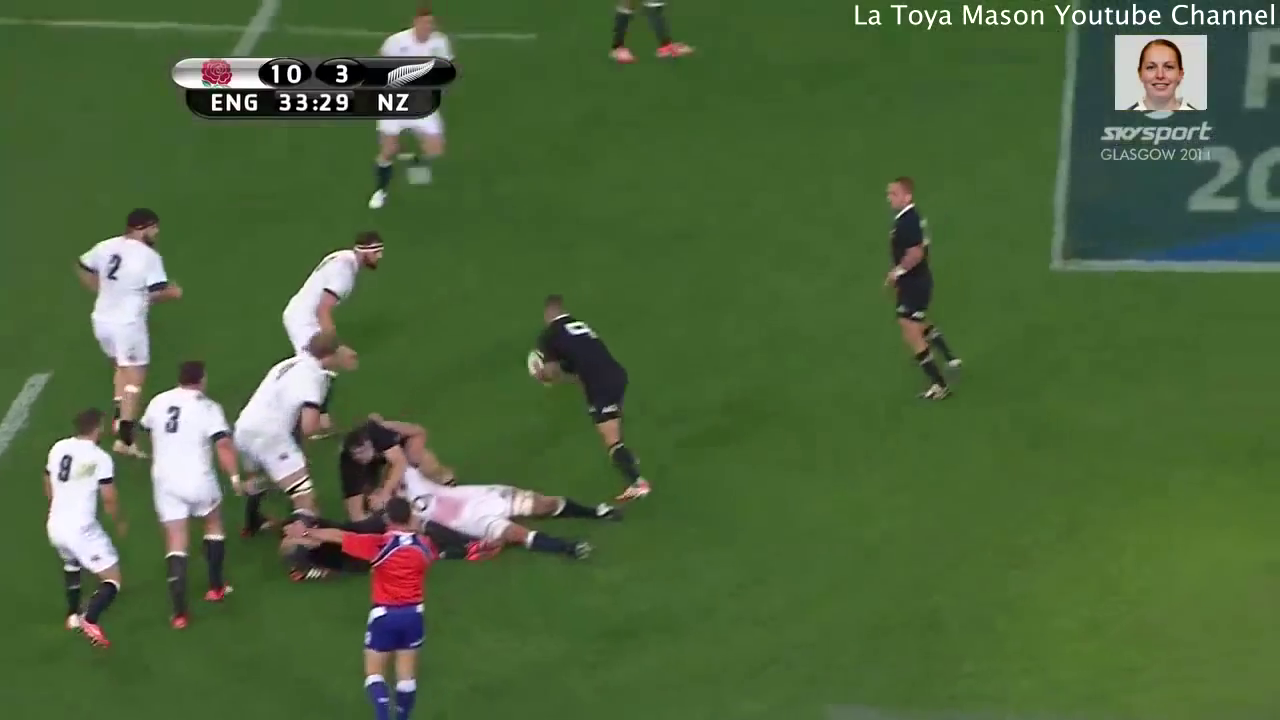ball: (520, 345, 552, 389)
player: (278, 492, 515, 720), (525, 291, 667, 504), (69, 205, 182, 460), (231, 328, 347, 576), (863, 164, 978, 408), (137, 354, 233, 630), (389, 468, 639, 572), (41, 407, 127, 658), (277, 230, 397, 352), (331, 414, 398, 504)
ruck: (271, 420, 623, 574)
